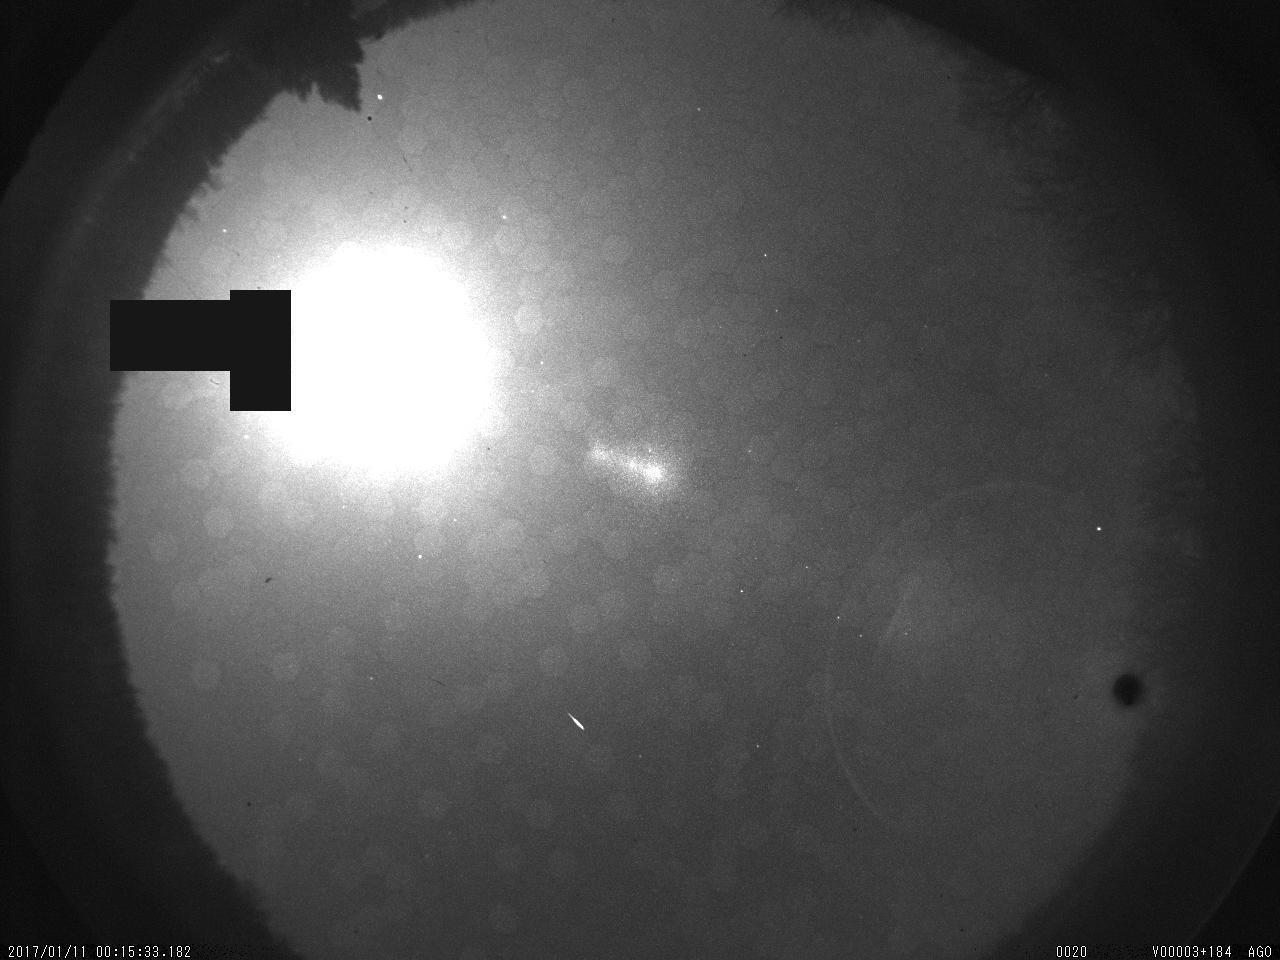Meteor: (567, 710, 593, 740)
